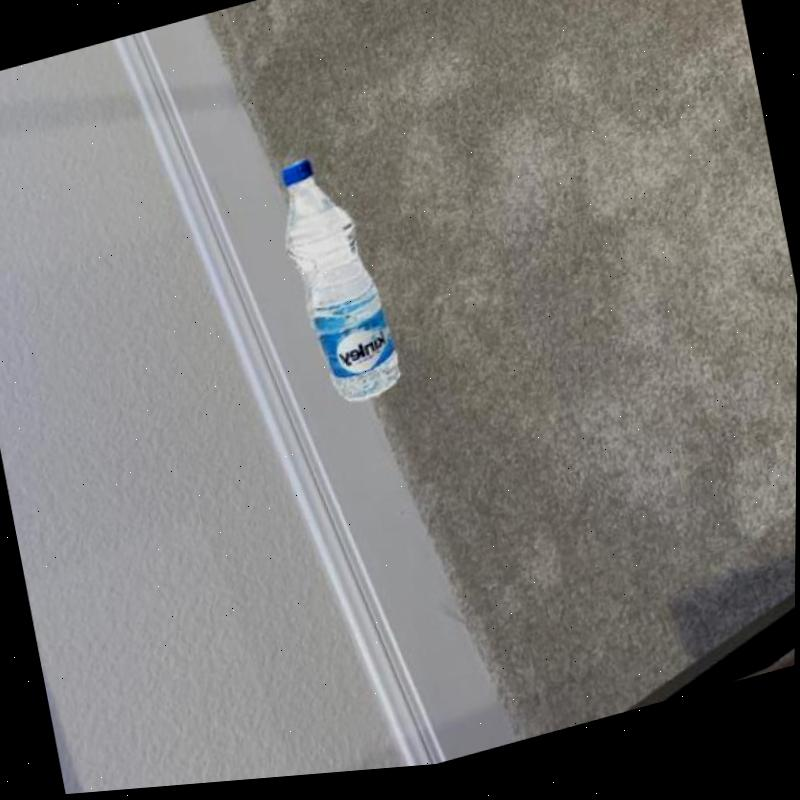botella: (269, 148, 417, 421)
